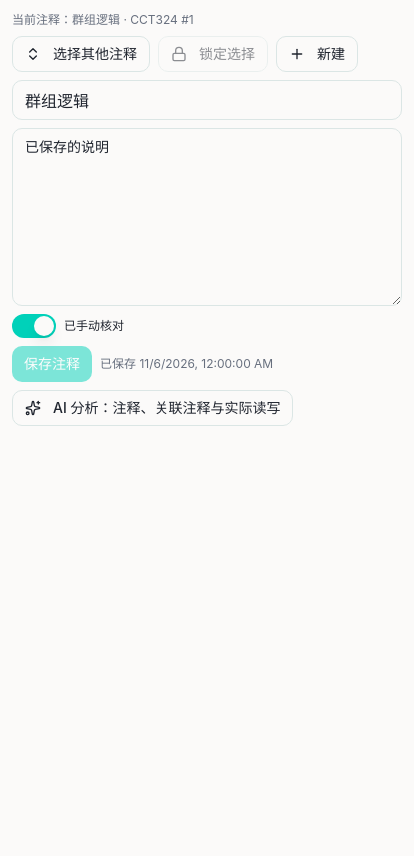
compares the current unsaved draft with code and does not save or change verification
Step 1. Replace the text in the text box showing "已保存的说明" with "我正在编辑的说明" → {"x": 207, "y": 217}, box [12,128,402,306]
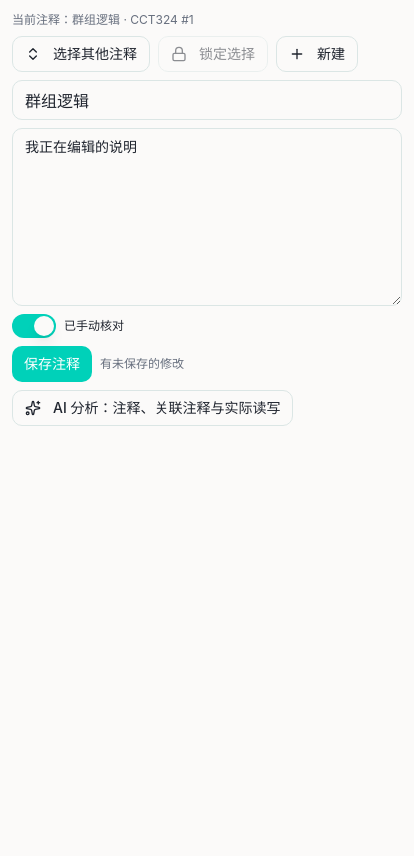
Step 2. Click the button "AI 分析：注释、关联注释与实际读写" → {"x": 153, "y": 408}, box [12,390,294,426]
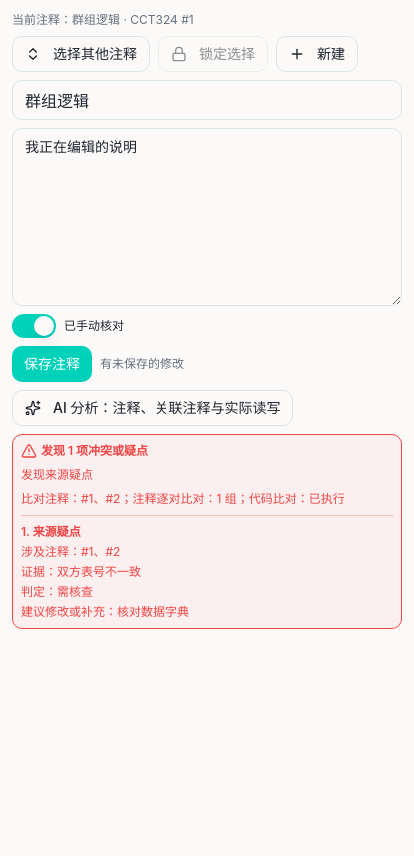
Expected: the message is shown, [12,434,402,629]
Step 3. Replace the text in the text box showing "我正在编辑的说明" with "再次修改" → {"x": 207, "y": 217}, box [12,128,402,306]
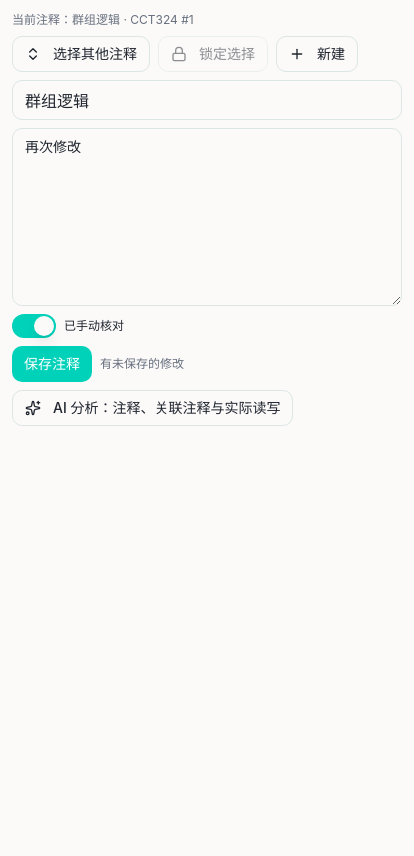
Expected: the message "发现 1 项冲突或疑点 发现来源疑点 比对注释：#1、#2；注释逐对比对：1 组；代码比对：已执行 1. 来源疑点 涉及注释：#1、#2 证据：双方表号不一致" is gone
